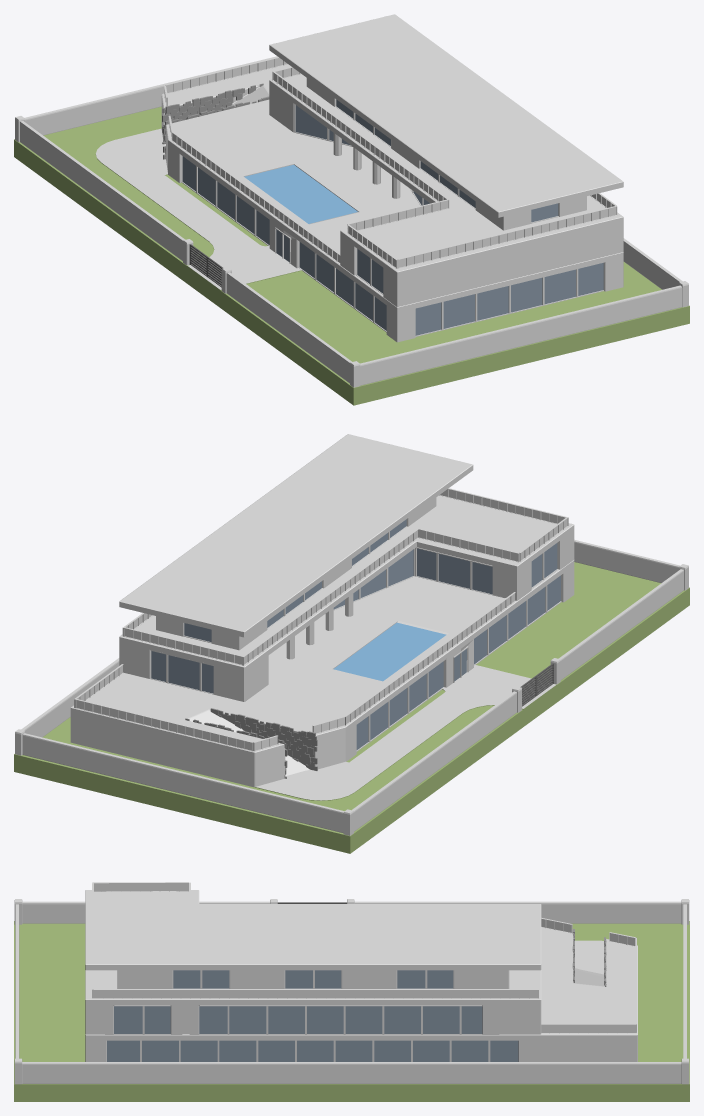
File: mansion.fbx
3 views of the same model, one above another, from view 1: azimuth 30°, elevation 25°; view 2: azimuth 150°, elevation 25°; view 3: azimuth 270°, elevation 25° (orthographic).
Parts seen in each view (by area): view 1: Cube, Cube.003, Cube.001, Cube.002, Cube.044, Cube.009, Cube.006, Cube.032, Cube.041, Cube.039, Cube.005, Cube.008 (+13 smaller); view 2: Cube, Cube.001, Cube.003, Cube.002, Cube.041, Cube.006, Cube.032, Cube.039, Cube.005, Cube.008, Cube.012, Cube.044 (+15 smaller); view 3: Cube.003, Cube, Cube.040, Cube.001, Cube.002, Cube.007, Cube.016, Cube.027, Cube.018, Cube.006, Cube.011, Cube.039 (+8 smaller).
Part boxes in pixels (bbox=[...]): Cube: bbox=[14, 106, 689, 405]; Cube.003: bbox=[269, 14, 623, 217]; Cube.001: bbox=[161, 64, 623, 342]; Cube.002: bbox=[269, 74, 623, 306]; Cube.044: bbox=[360, 285, 682, 385]; Cube.009: bbox=[415, 263, 603, 336]; Cube.006: bbox=[20, 121, 185, 260]; Cube.032: bbox=[244, 164, 357, 223]; Cube.041: bbox=[25, 56, 277, 135]; Cube.039: bbox=[226, 272, 351, 383]; Cube.005: bbox=[181, 156, 269, 245]; Cube.008: bbox=[299, 242, 386, 332]; Cube: bbox=[14, 562, 689, 853]; Cube.001: bbox=[70, 560, 574, 787]; Cube.003: bbox=[119, 434, 473, 637]; Cube.002: bbox=[119, 495, 574, 701]; Cube.041: bbox=[22, 733, 344, 833]; Cube.006: bbox=[352, 691, 516, 831]; Cube.032: bbox=[333, 622, 446, 681]; Cube.039: bbox=[558, 569, 683, 680]; Cube.005: bbox=[356, 661, 444, 751]; Cube.008: bbox=[474, 575, 561, 665]; Cube.012: bbox=[415, 547, 504, 597]; Cube.044: bbox=[574, 539, 679, 582]; Cube.003: bbox=[85, 904, 541, 970]; Cube: bbox=[14, 921, 689, 1101]; Cube.040: bbox=[22, 1062, 681, 1083]; Cube.001: bbox=[85, 927, 637, 1061]; Cube.002: bbox=[85, 890, 541, 1034]; Cube.007: bbox=[107, 1040, 518, 1061]; Cube.016: bbox=[189, 1005, 498, 1034]; Cube.027: bbox=[94, 989, 538, 998]; Cube.018: bbox=[117, 970, 509, 988]; Cube.006: bbox=[354, 901, 681, 923]; Cube.011: bbox=[105, 1005, 182, 1034]; Cube.039: bbox=[22, 901, 269, 923].
Size of the model in its own units: 1996 by 699 by 3493.
